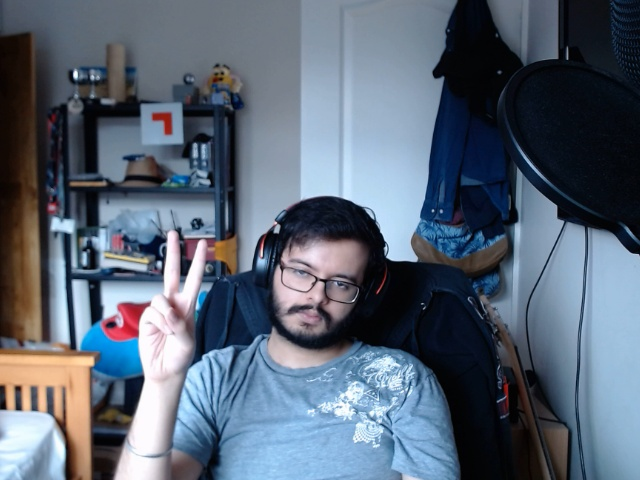Peace: (127, 221, 224, 382)
